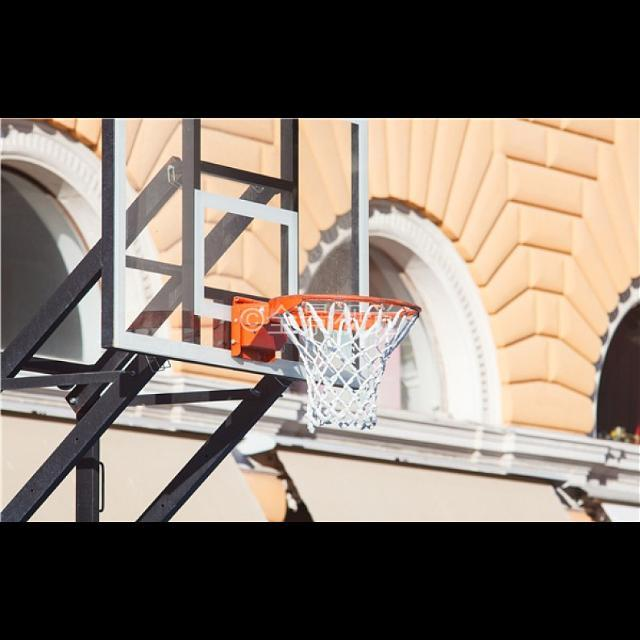rim: (270, 295, 422, 433)
